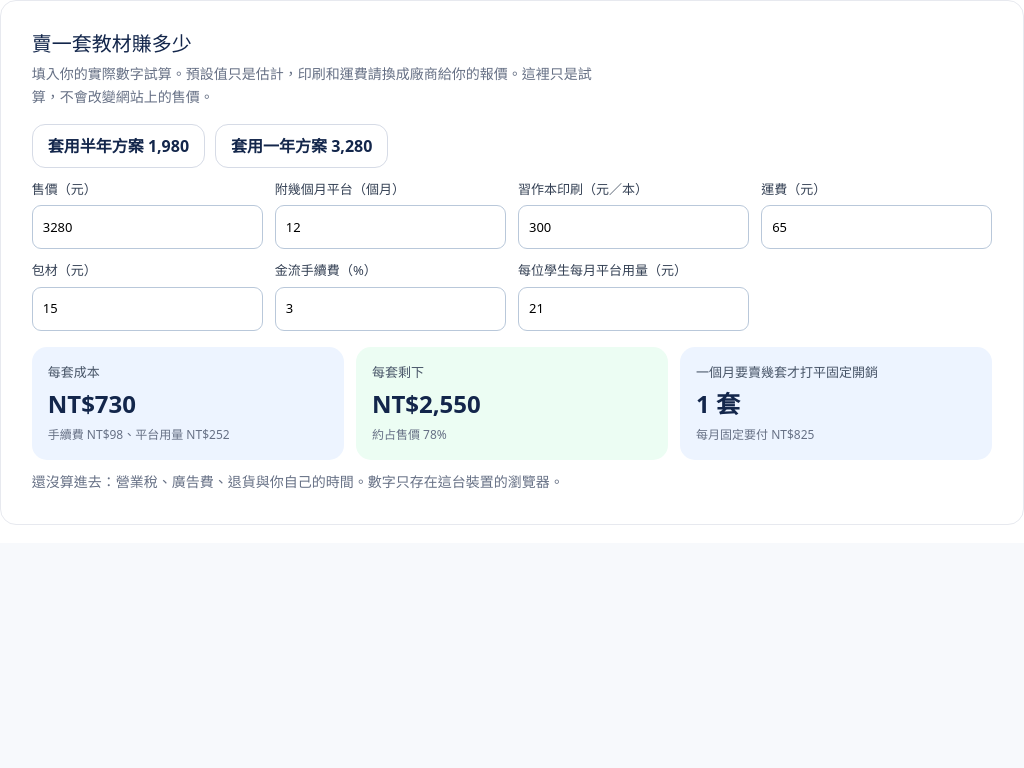
Scenario: profit calculator shows cost, profit and break-even, and a loss is labelled
The image size is (1024, 768).
Expected: the text "NT$2,550" is shown, [372,387,481,420]
Expected: the text "1 套" is shown, [696,387,740,420]
Replace the text in the number field labelled "售價" with "100": (147, 227) [32,205,263,249]
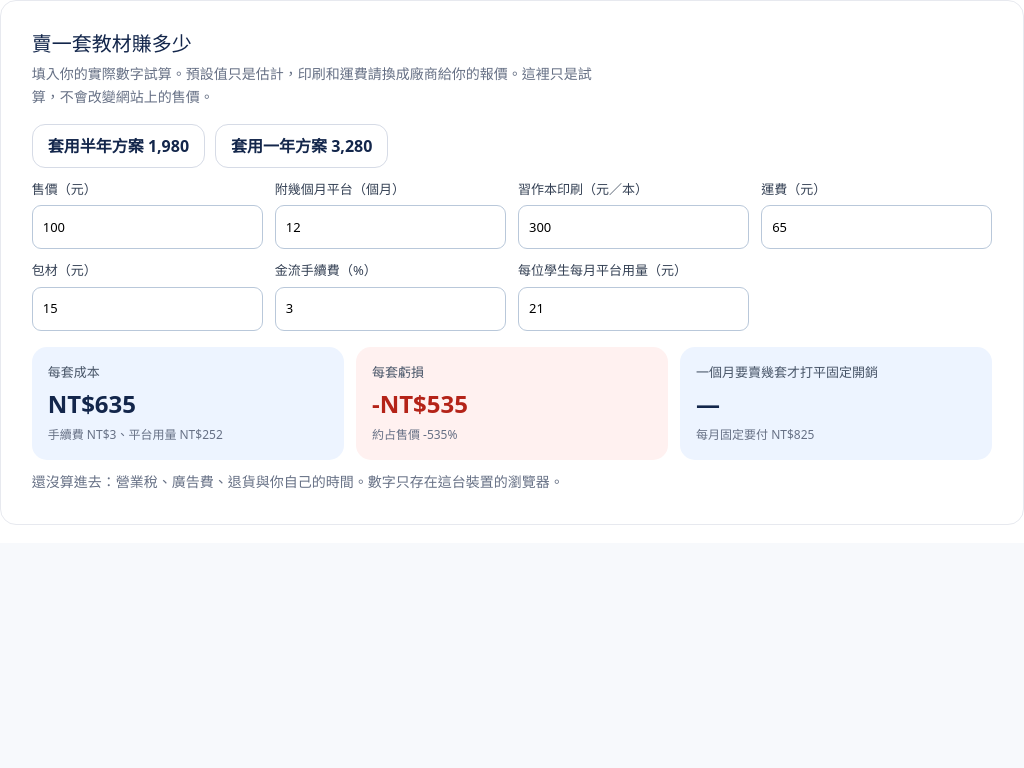
Result: the text "每套虧損" is shown at [372,363,424,381]
Clear the number field labelled "運費": (877, 227) [761,205,992,249]
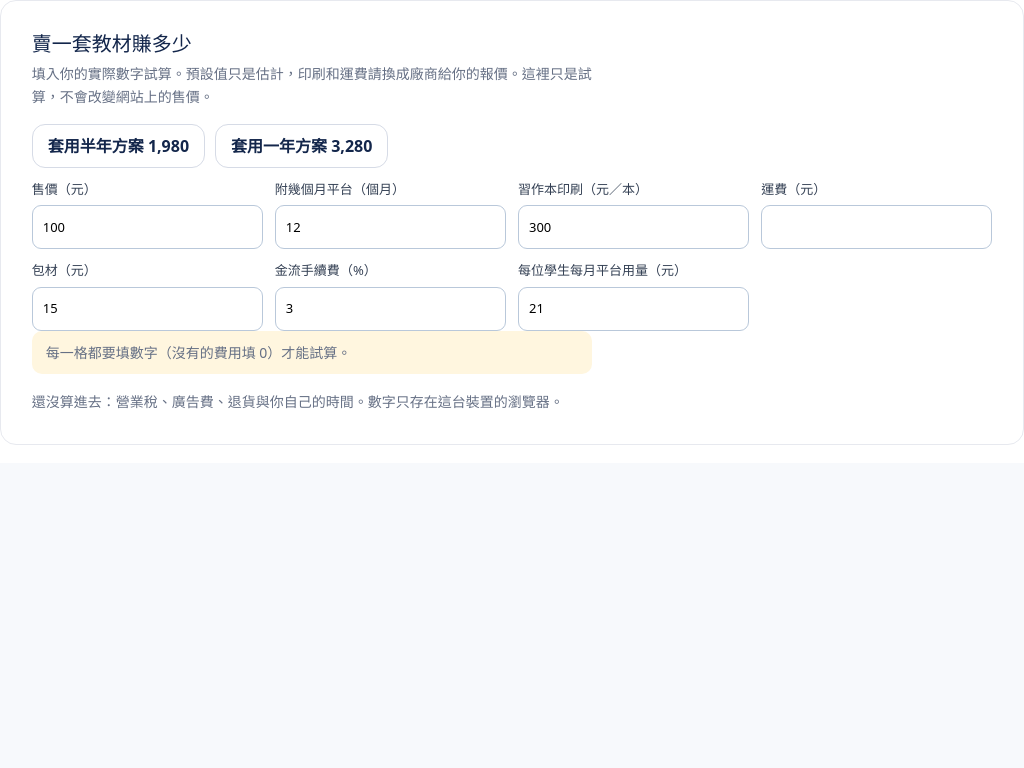
Result: the message shows "每一格都要填數字" at [46,343,351,362]
